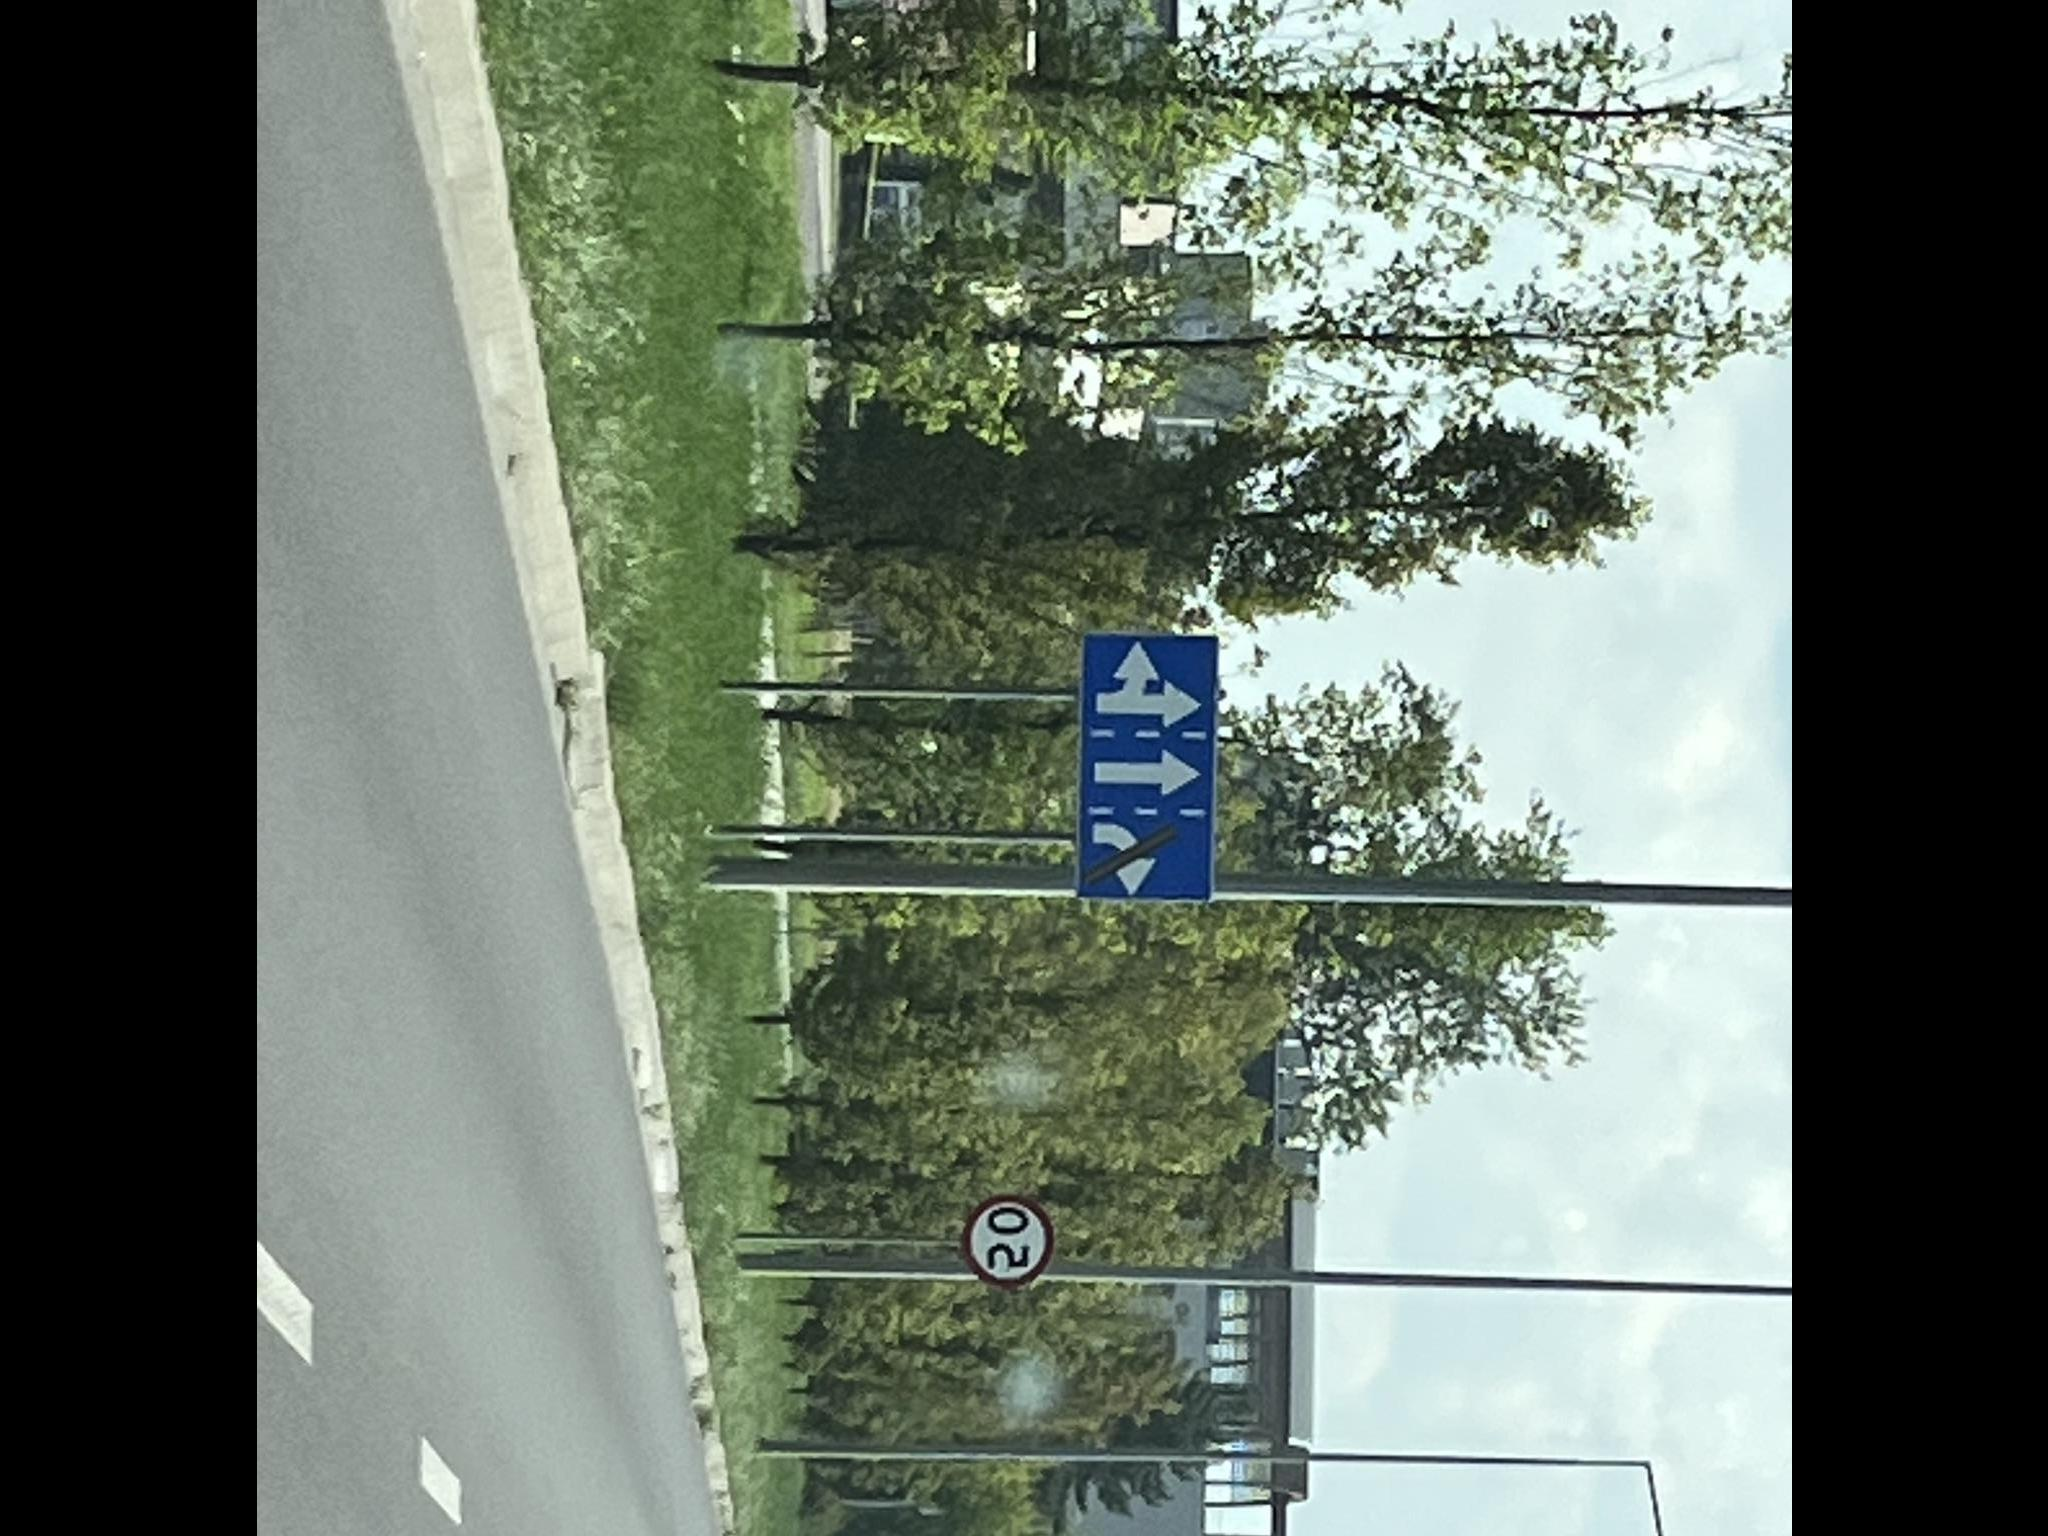other: (1085, 632, 1211, 897)
prohibitory: (959, 1191, 1056, 1289)
